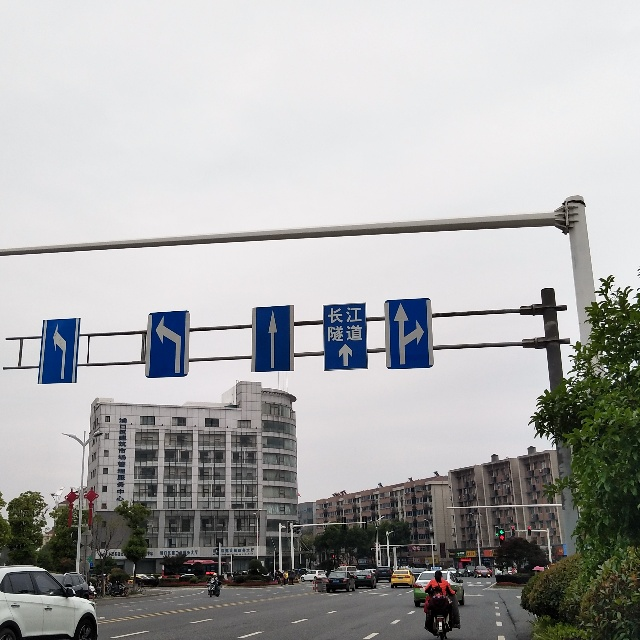left: (41, 319, 76, 383), (151, 319, 185, 376)
straight: (257, 311, 291, 373)
